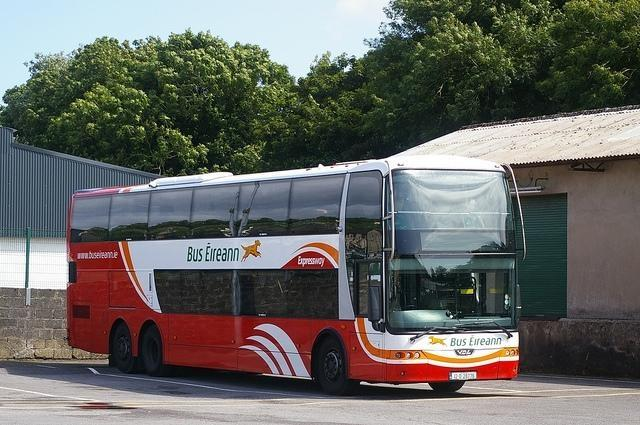bus: (70, 160, 520, 396)
